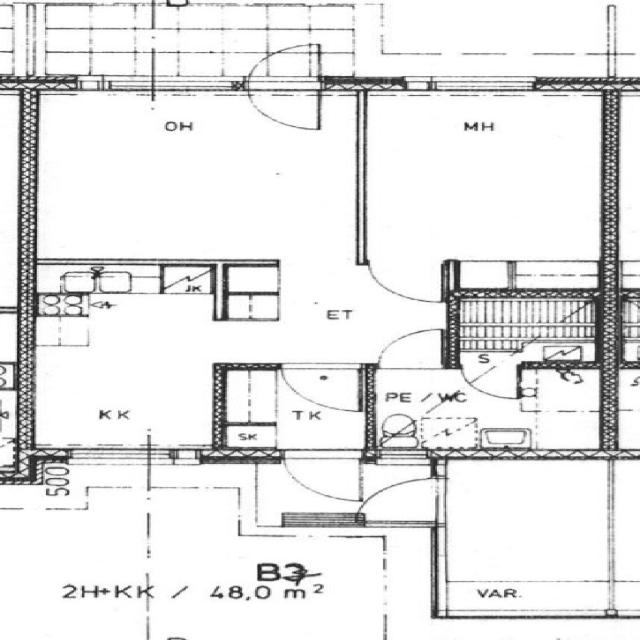door: (423, 338, 528, 398), (278, 450, 368, 505), (278, 362, 366, 413), (358, 476, 444, 526), (248, 84, 328, 136), (248, 44, 325, 96), (371, 325, 450, 371), (364, 260, 445, 304), (456, 361, 525, 403)
window: (411, 73, 541, 98), (61, 442, 166, 467)
zone: (24, 94, 365, 264), (355, 93, 613, 265), (440, 459, 617, 615), (370, 382, 612, 454), (453, 290, 603, 363), (443, 583, 615, 620), (515, 364, 606, 413)
